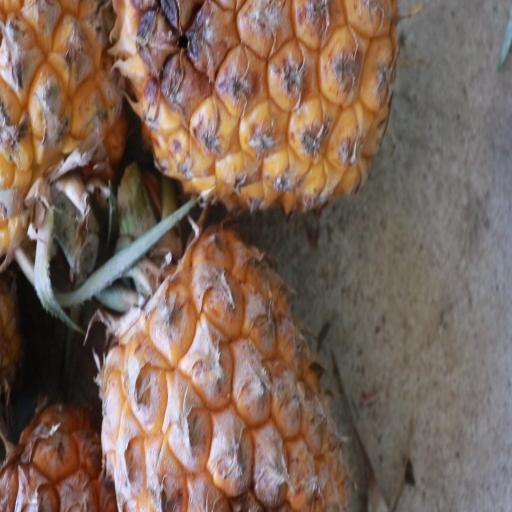Pineapple - v8 v1: (89, 217, 347, 512), (105, 0, 402, 224)
